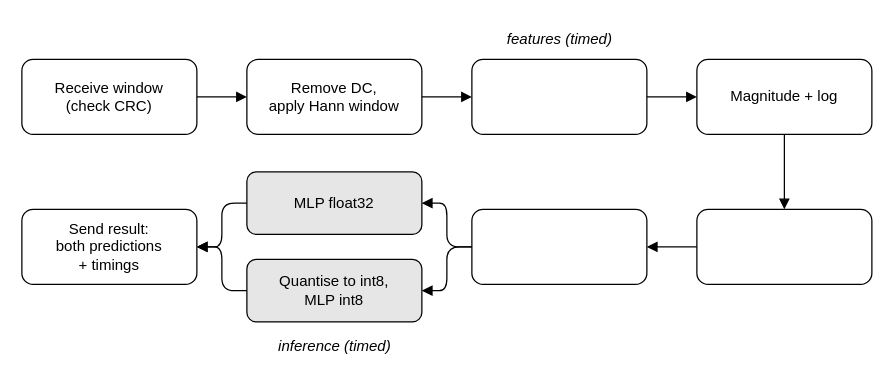
This 894x380 diagram has some shape labels left out. The centre of each missing label's shape, as x and y in pixels:
1024-point FFT (CMSIS-DSP): point (559, 96)
Average into 64 bands: point (784, 246)
Standardise (training mean, std): point (559, 246)
